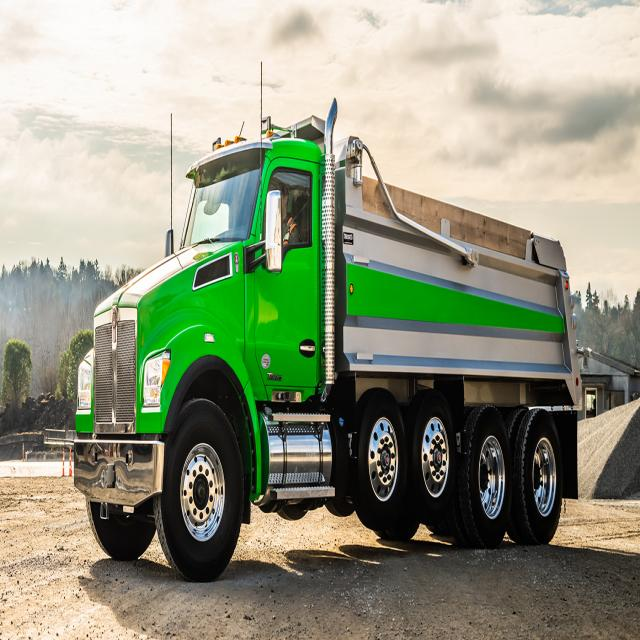truck: (58, 82, 602, 602)
